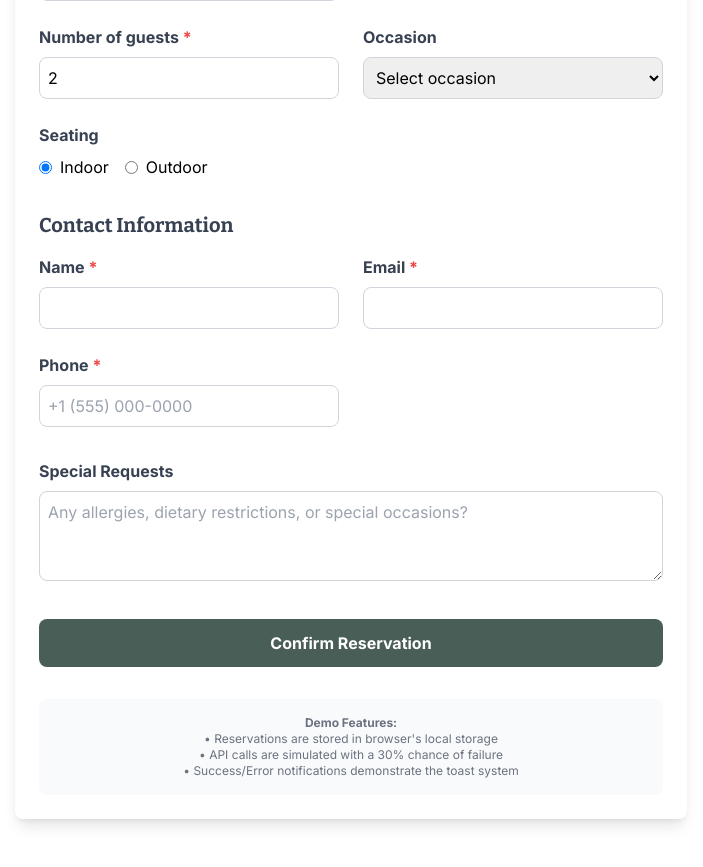
Reservations › shows validation errors when submitting empty form
(page scrolled)
Click the button "Confirm Reservation" at (351, 643), box [39,619,663,667]
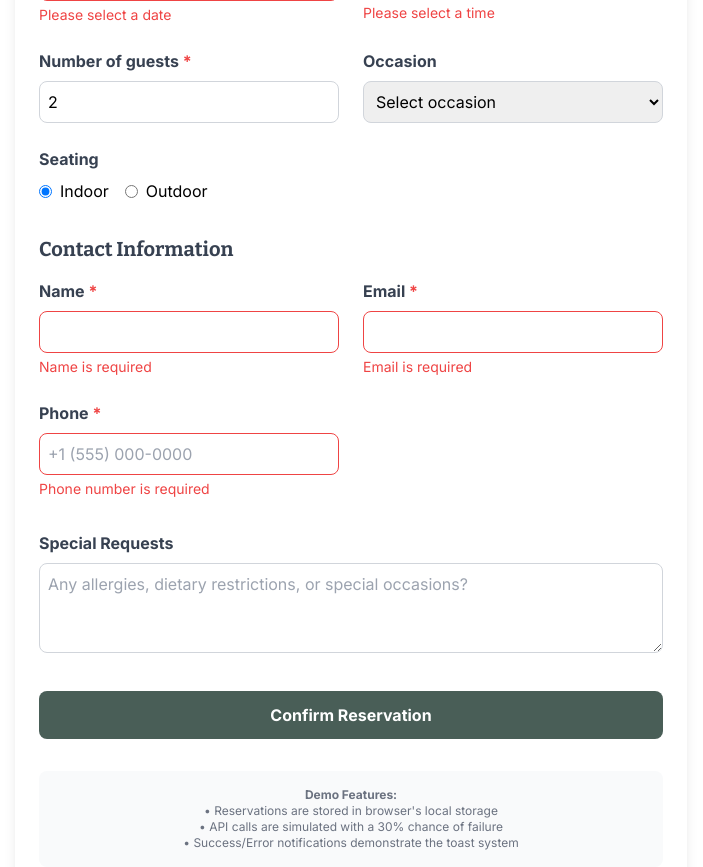
Expected: the text "Please select a date" is shown, [39,6,172,23]
Expected: the text "Please select a time" is shown, [363,4,495,21]
Expected: the text "Name is required" is shown, [39,358,152,375]
